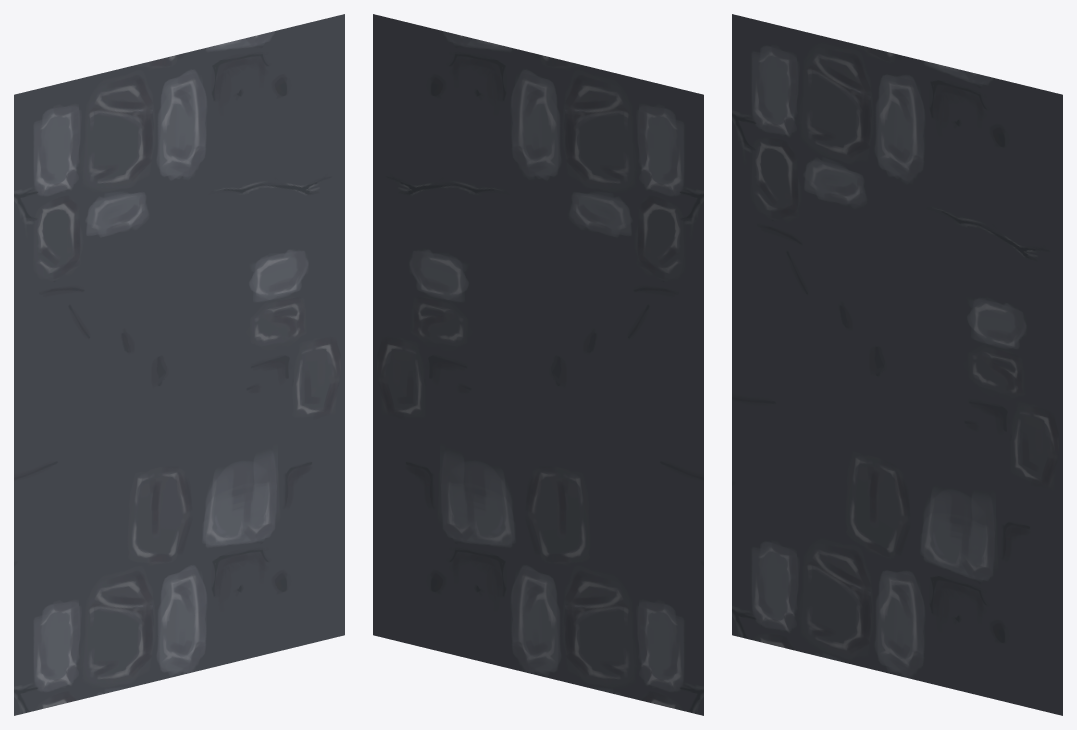
The model's file is Wall simple mitad.fbx.
3 renders of one model, left to right at view 1: azimuth 30°, elevation 25°; view 2: azimuth 150°, elevation 25°; view 3: azimuth 330°, elevation 25°, orthographic.
Visible parts, largest first — view 1: Wall__Simple4; view 2: Wall__Simple4; view 3: Wall__Simple4.
Part boxes in pixels (left/top/right/bottom): Wall__Simple4: left=14, top=14, right=344, bottom=715; Wall__Simple4: left=373, top=14, right=703, bottom=715; Wall__Simple4: left=732, top=14, right=1062, bottom=715.
Bounding box in the file's own units: 7 × 12.56 × 0.
